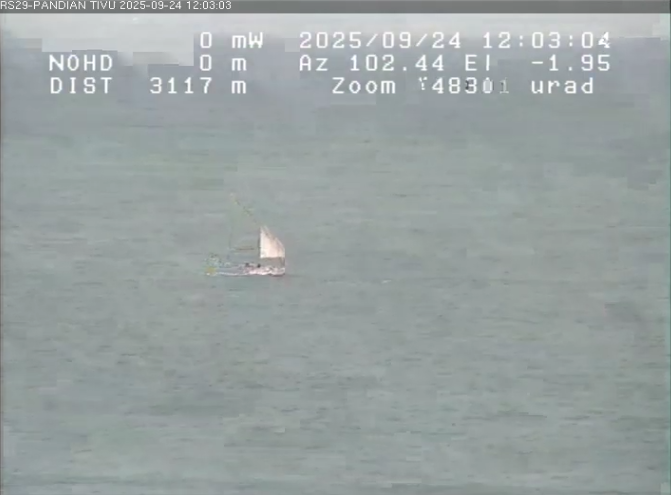SAIL_BOAT: (191, 182, 303, 283)
